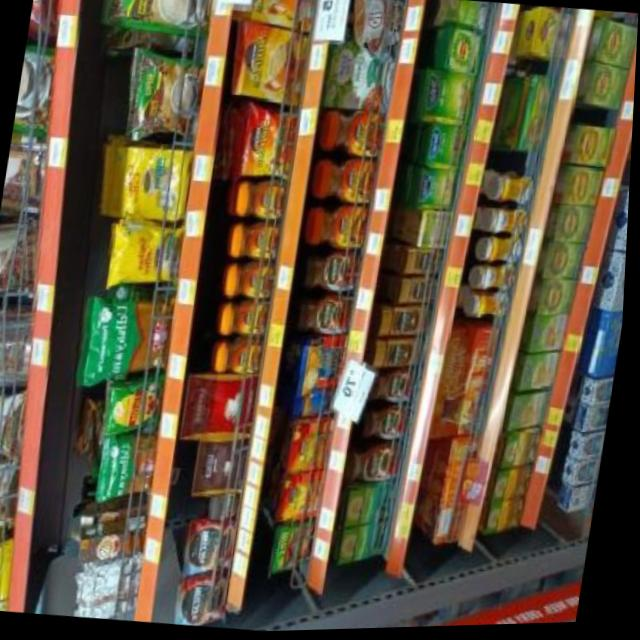Coffee: (228, 21, 311, 106), (234, 107, 299, 179), (322, 108, 386, 161), (306, 203, 372, 253), (315, 156, 379, 207), (230, 0, 314, 36), (180, 573, 235, 627), (188, 523, 242, 574), (296, 294, 356, 338), (305, 251, 363, 296), (348, 442, 406, 487), (236, 181, 288, 223), (233, 222, 282, 263), (225, 265, 280, 301), (222, 301, 271, 340), (366, 404, 413, 444), (375, 369, 421, 406), (383, 306, 434, 338), (215, 343, 264, 376), (375, 342, 426, 372), (215, 492, 246, 524), (407, 252, 444, 278), (402, 280, 437, 305)
